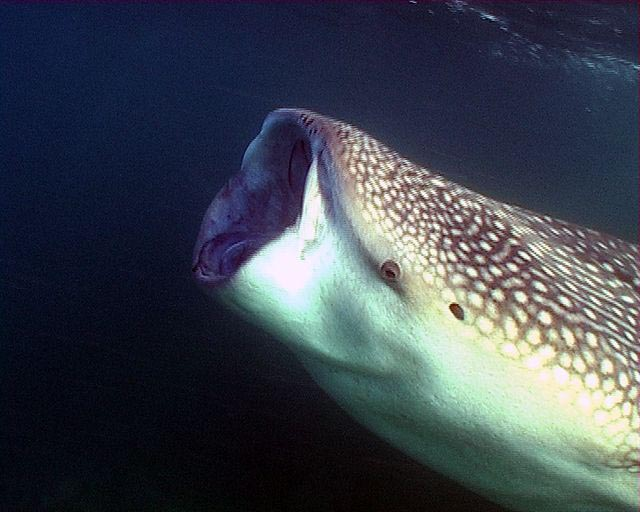Rhincodon_typusw: (136, 88, 640, 503)
